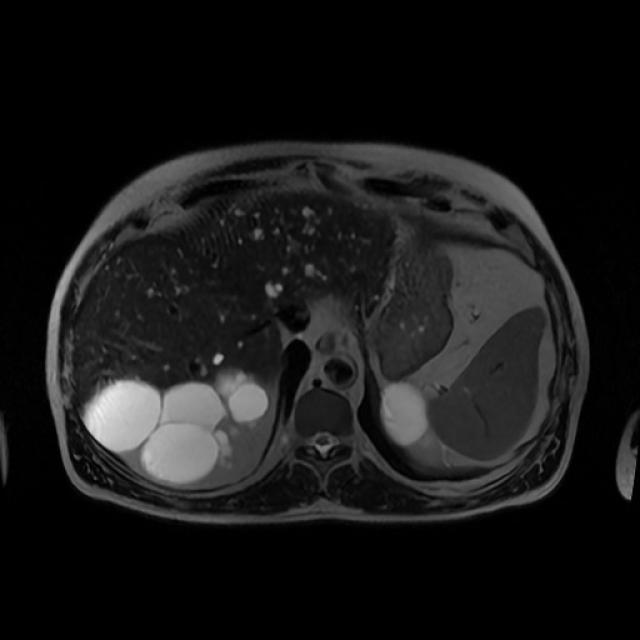sag: (88, 368, 270, 479)
sol: (381, 382, 428, 446)
